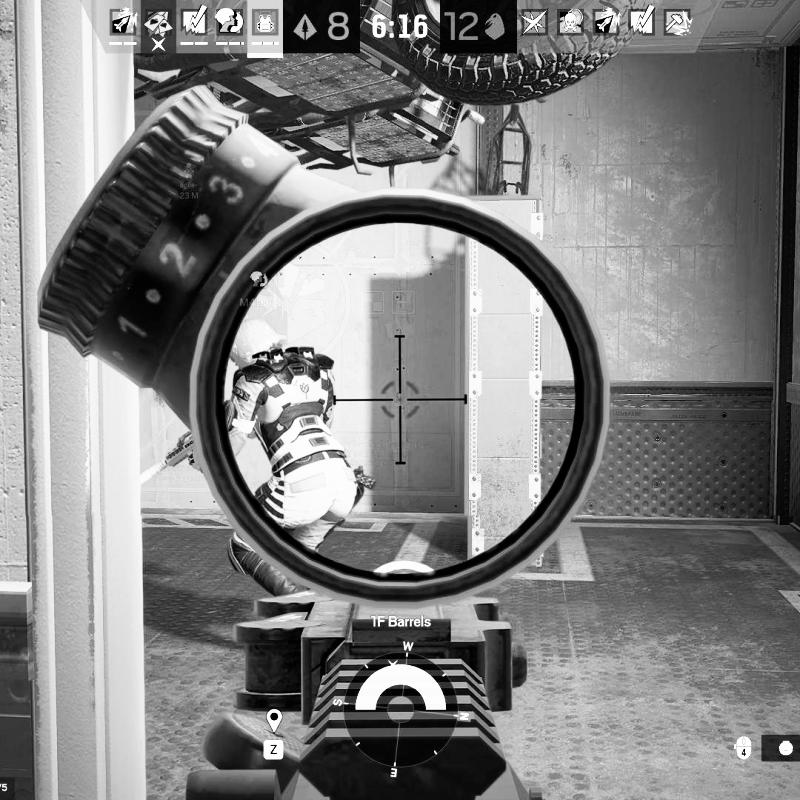Character: (184, 316, 370, 600)
Friend_label: (234, 269, 288, 310)
Head: (225, 316, 284, 370)
